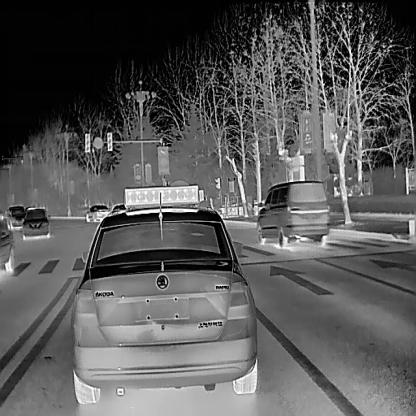car: (70, 182, 257, 404), (257, 180, 330, 246), (19, 206, 50, 239), (0, 209, 14, 271), (5, 204, 24, 229), (84, 202, 110, 220)
